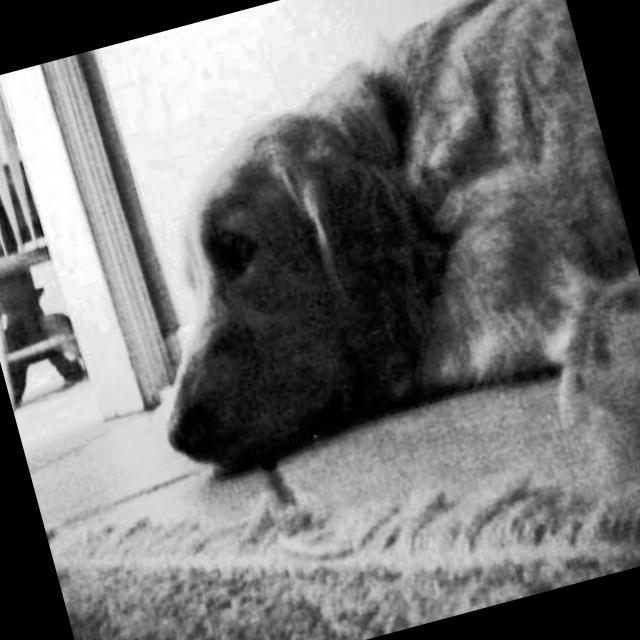Dog: (67, 0, 640, 507)
